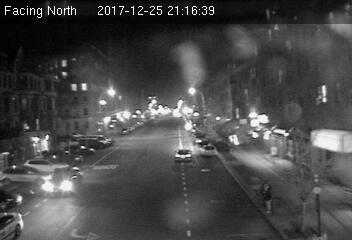car: (43, 168, 82, 195), (171, 148, 195, 163), (199, 145, 219, 157)
